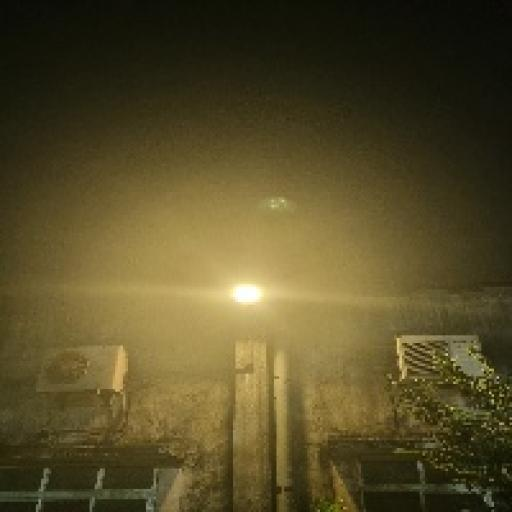Working: (223, 276, 269, 311)
